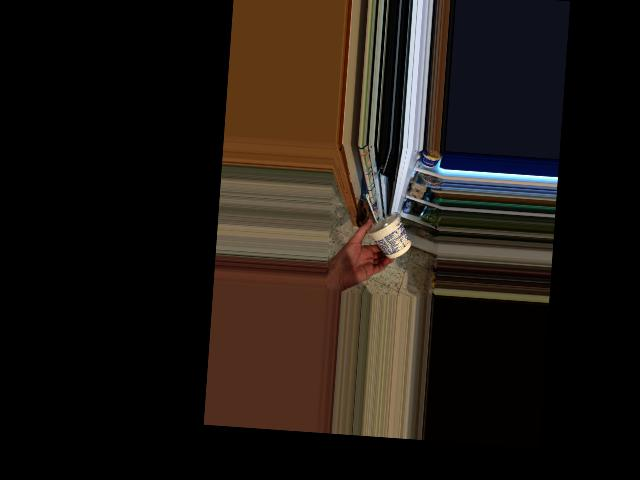cotage: (368, 209, 407, 253)
